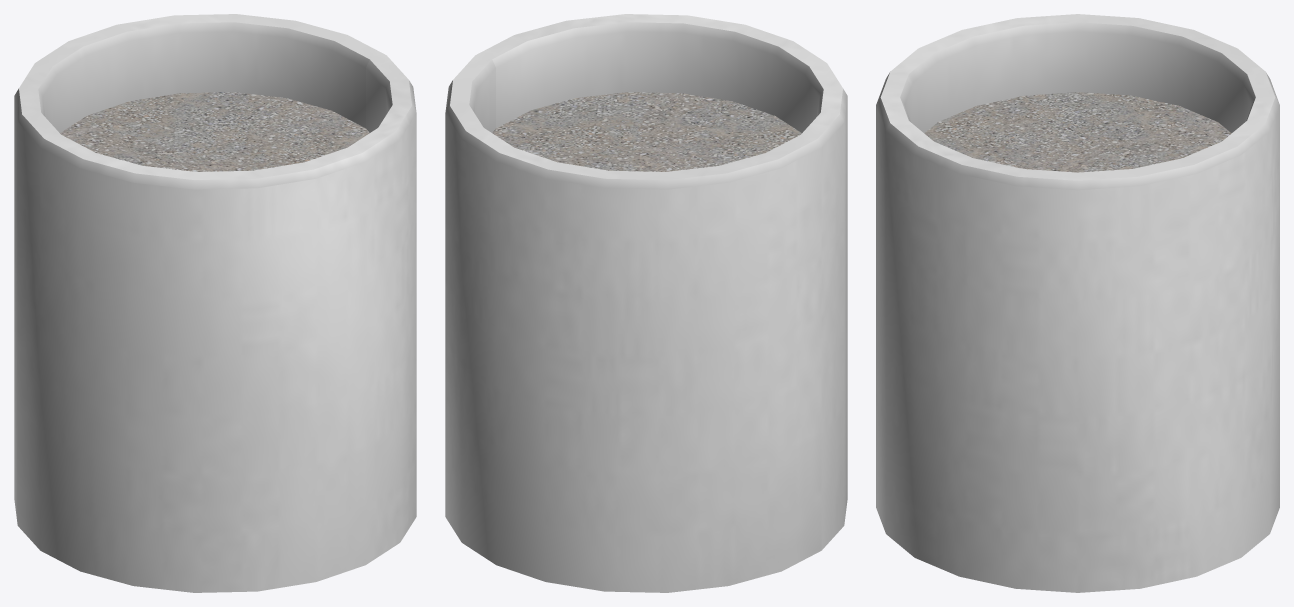
Rendered from flower_pot.fbx.
3 renders of one model, left to right at view 1: azimuth 30°, elevation 25°; view 2: azimuth 150°, elevation 25°; view 3: azimuth 270°, elevation 25°, orthographic.
Visible parts, largest first — view 1: flowers_1; view 2: flowers_1; view 3: flowers_1.
Part boxes in pixels (x1=…): flowers_1: x1=14, y1=14, x2=416, y2=592; flowers_1: x1=445, y1=14, x2=847, y2=592; flowers_1: x1=876, y1=14, x2=1279, y2=592.
Size of the model in its own units: 0.7668 by 0.8594 by 0.7668.
